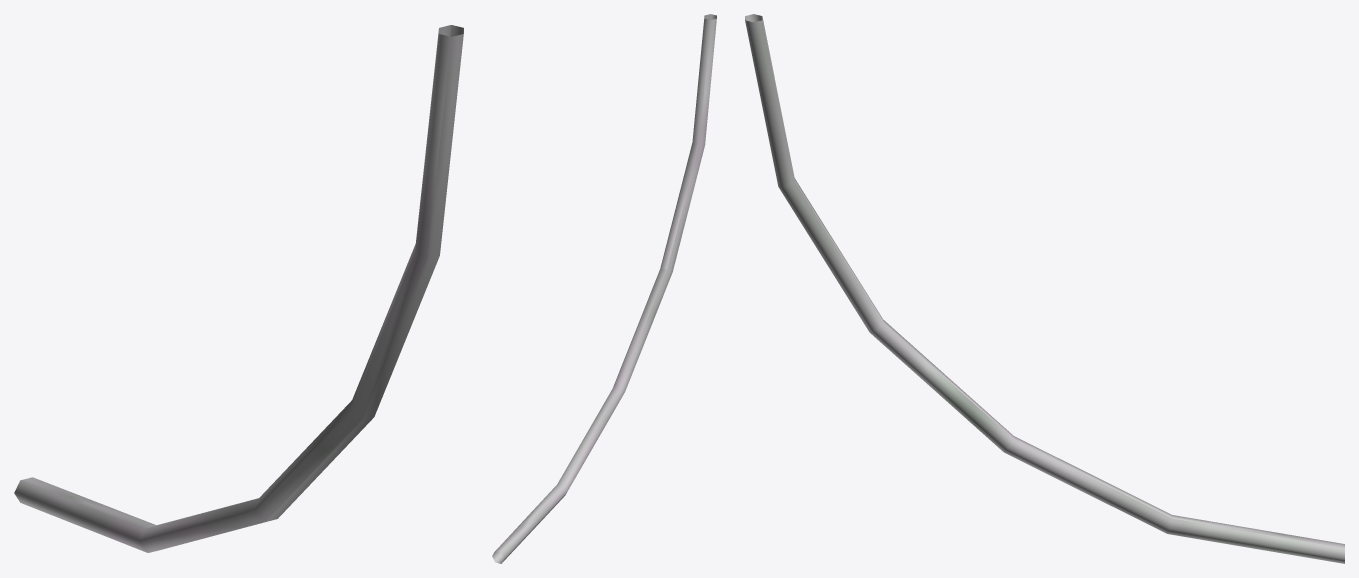
File: cable_bend_medium.dae
3 views of the same model, side by side, from view 1: azimuth 30°, elevation 25°; view 2: azimuth 150°, elevation 25°; view 3: azimuth 270°, elevation 25° (orthographic). The views are drawn at different scales.
Parts seen in each view (by area): view 1: Mesh; view 2: Mesh; view 3: Mesh.
Part boxes in pixels (<box>): Mesh: <box>14,25,463,552</box>; Mesh: <box>492,14,716,563</box>; Mesh: <box>745,14,1344,563</box>.
Bounding box in the file's own units: 0.0169 × 0.5073 × 0.5073.
